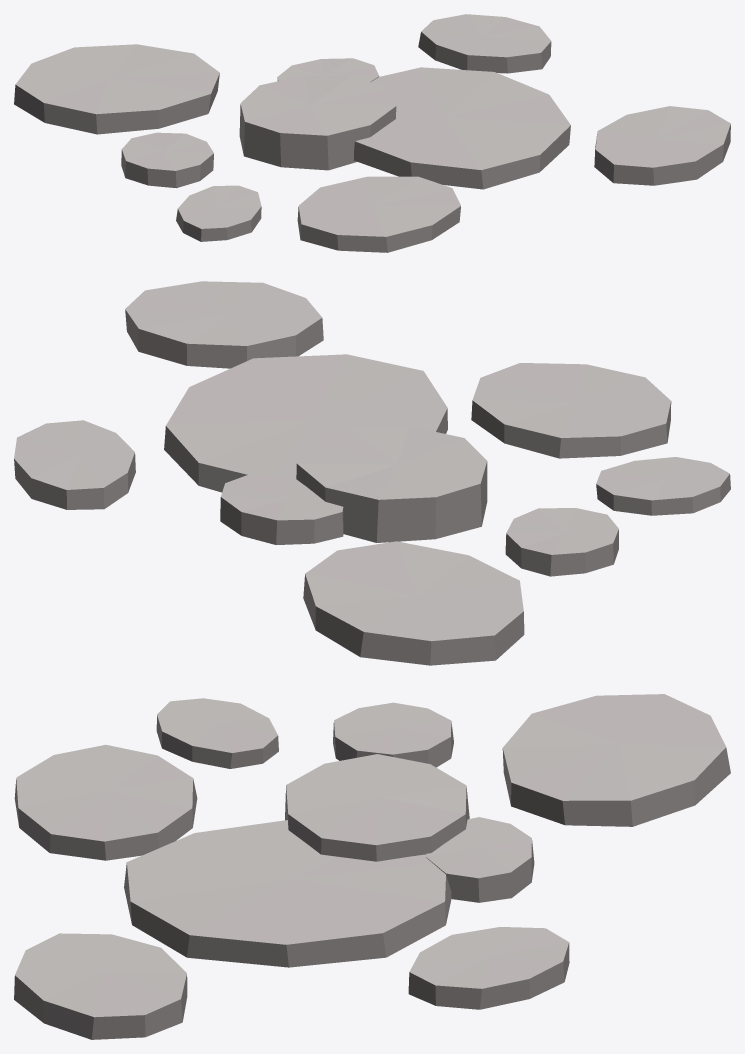
The model's file is Chemin_cailloux_V3.fbx.
The picture shows the model from 3 angles, top to bottom: view 1: azimuth 30°, elevation 25°; view 2: azimuth 150°, elevation 25°; view 3: azimuth 270°, elevation 25°; orthographic projection. The views are drawn at different scales.
Parts seen in each view (by area): view 1: Icosphere.014; view 2: Icosphere.014; view 3: Icosphere.014.
Boxes of the visible parts, x1=… form: Icosphere.014: x1=14, y1=14, x2=730, y2=252; Icosphere.014: x1=14, y1=281, x2=730, y2=665; Icosphere.014: x1=14, y1=694, x2=730, y2=1039.
Size of the model in its own units: 138 by 9.04 by 129.
